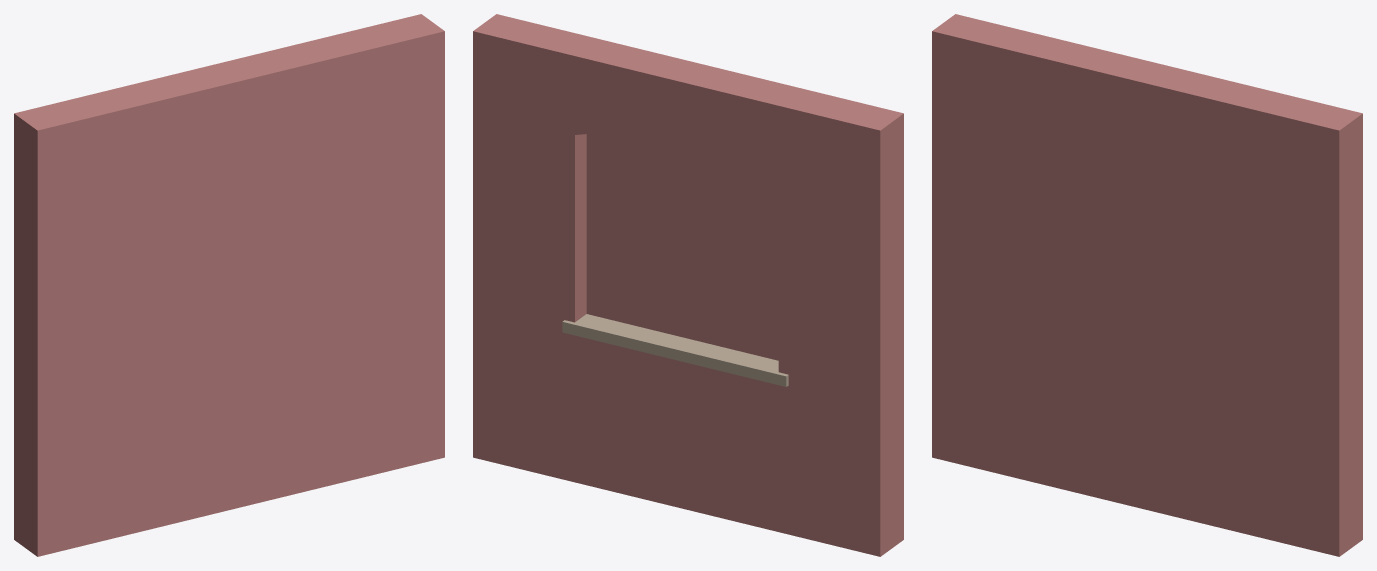
Rendered from wall_hole.fbx.
The picture shows the model from 3 angles, left to right: view 1: azimuth 30°, elevation 25°; view 2: azimuth 150°, elevation 25°; view 3: azimuth 330°, elevation 25°; orthographic projection.
Parts seen in each view (by area): view 1: Cube; view 2: Cube; view 3: Cube.
Boxes of the visible parts, x1,y1,x2,y2 form: Cube: (14,14,444,556); Cube: (473,14,903,556); Cube: (932,14,1362,556).
Bounding box in the file's own units: 400 × 400 × 44.
